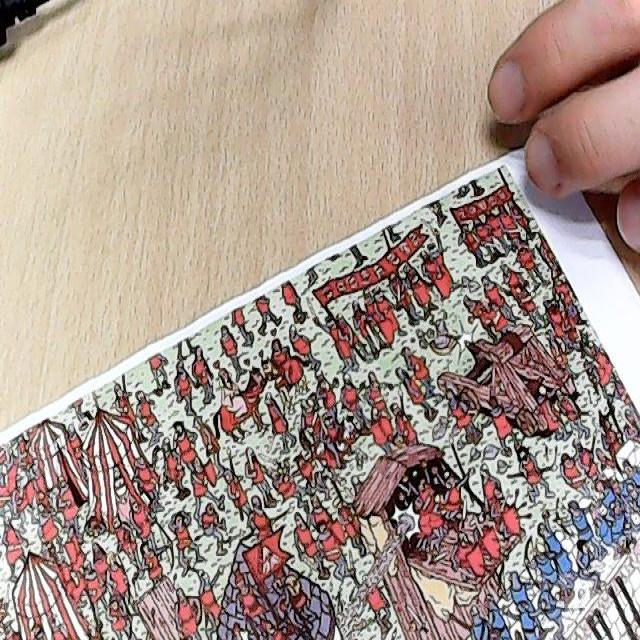waldo: (387, 431, 410, 453)
